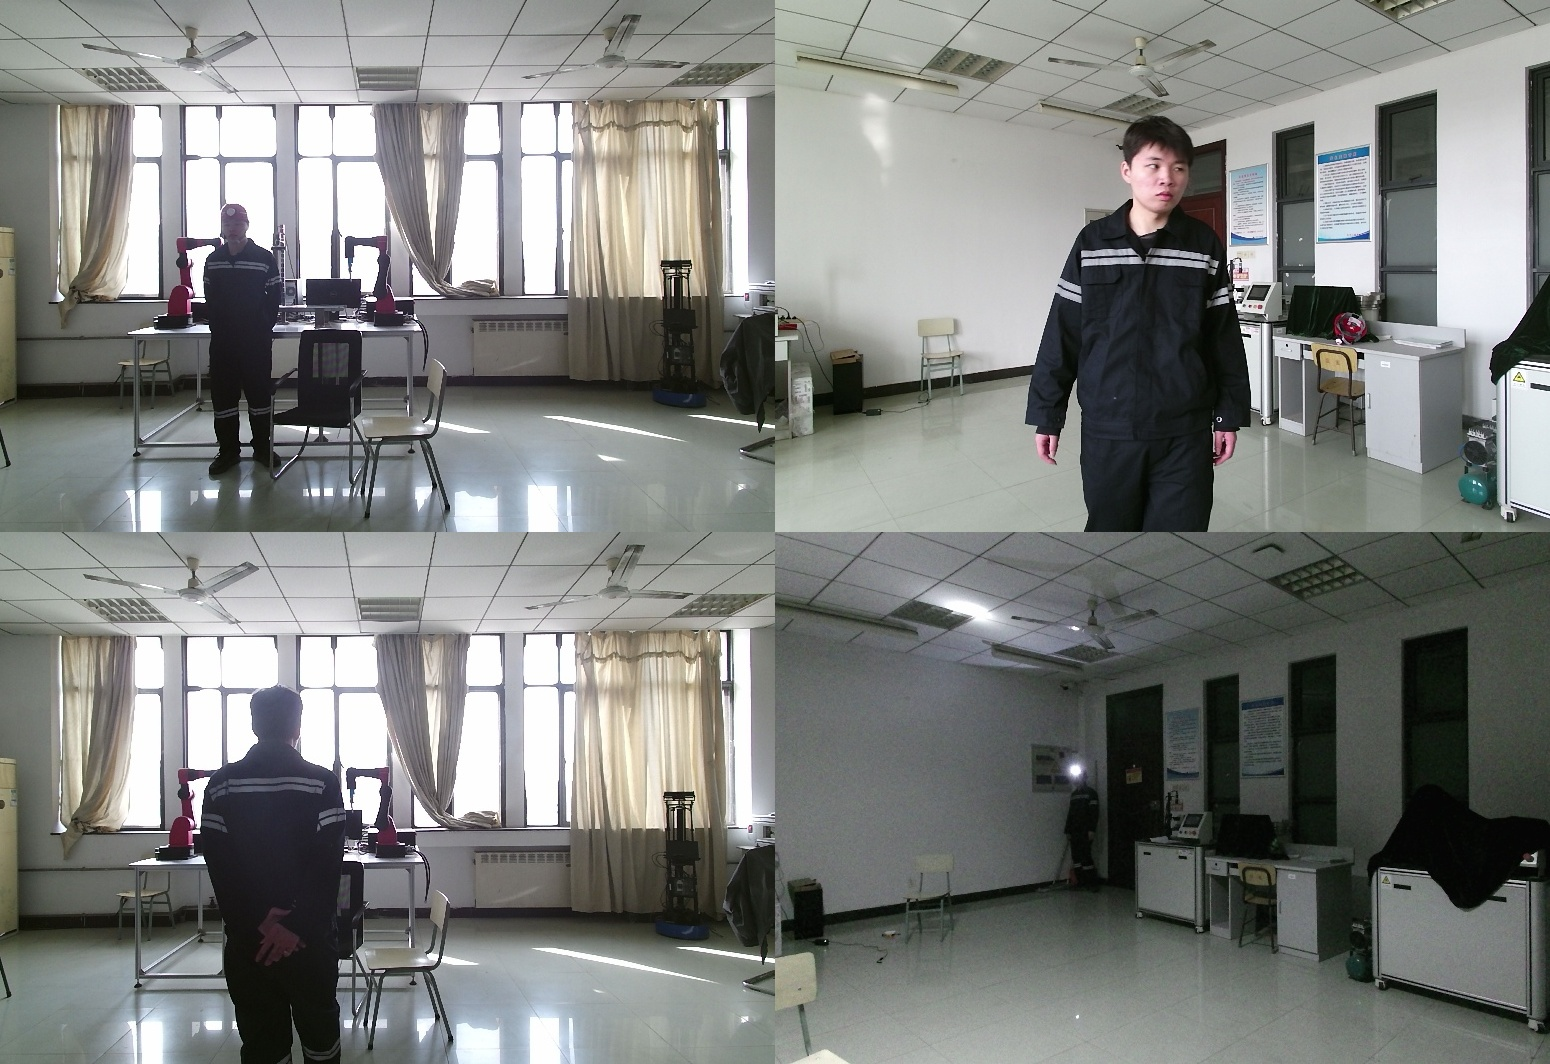person: (1029, 116, 1257, 532), (201, 686, 362, 1064), (204, 205, 289, 478), (1064, 766, 1099, 893)
